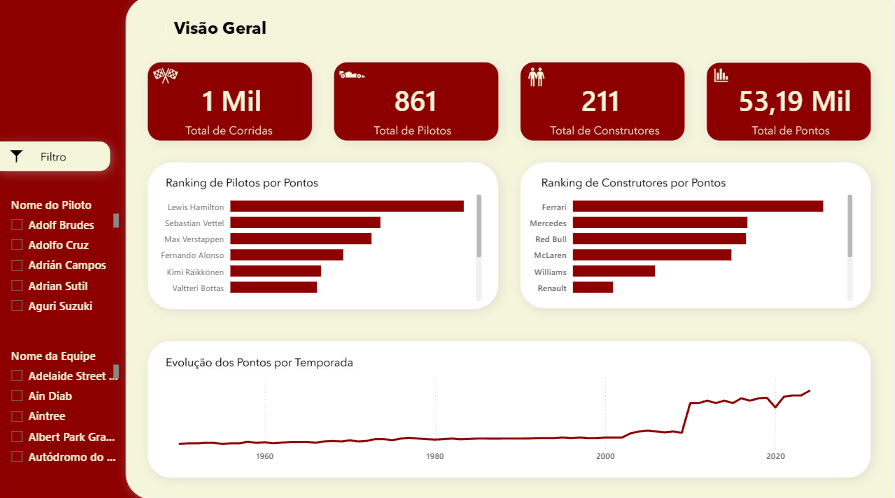

This screenshot's page, from the dashboard's own definition file:
{"tool":"powerbi","page":{"name":"Visão Geral","canvas":[1280,720],"ordinal":0},"visuals":[{"type":"barChart","fields":{"Category":["DimDriver.Nome Piloto"],"Y":["FactResults.Total Pontos"]},"box":[198.9,266.5,495.9,170.8],"z":0},{"type":"barChart","fields":{"Category":["DimConstructor.name"],"Y":["FactResults.Total Pontos"]},"box":[743.3,266.5,481.9,170.8],"z":1000},{"type":"lineChart","fields":{"Category":["DimRace.year"],"Y":["FactResults.Total Pontos"]},"box":[239.7,529.1,1009.7,144.1],"z":2000},{"type":"cardVisual","fields":{"Data":["FactResults.Total Corridas"]},"box":[256.3,105.8,154.3,75.2],"z":3000},{"type":"cardVisual","fields":{"Data":["FactResults.Total Pilotos"]},"box":[530.4,105.8,130,75.2],"z":4000},{"type":"cardVisual","fields":{"Data":["FactResults.Total Construtores"]},"box":[796.8,94.3,124.9,98.2],"z":5000},{"type":"cardVisual","fields":{"Data":["FactResults.Total Pontos"]},"box":[1023.7,94.3,225.7,98.2],"z":6000},{"type":"slicer","fields":{"Values":["DimDriver.Nome Piloto"]},"box":[3.8,280.5,172.1,179.8],"z":7000},{"type":"slicer","fields":{"Values":["DimCircuit.name"]},"box":[3.8,495.9,172.1,177.2],"z":8000}]}

Visuals, with their boxes in screenshot pixels (x1, y1, x2, y2), scaled from the page's 1280x720 canvas onto the 895x498 screenshot:
barChart - DimDriver.Nome Piloto x FactResults.Total Pontos: (x1=139, y1=184, x2=486, y2=302)
barChart - DimConstructor.name x FactResults.Total Pontos: (x1=520, y1=184, x2=857, y2=302)
lineChart - DimRace.year x FactResults.Total Pontos: (x1=168, y1=366, x2=874, y2=466)
cardVisual - FactResults.Total Corridas: (x1=179, y1=73, x2=287, y2=125)
cardVisual - FactResults.Total Pilotos: (x1=371, y1=73, x2=462, y2=125)
cardVisual - FactResults.Total Construtores: (x1=557, y1=65, x2=644, y2=133)
cardVisual - FactResults.Total Pontos: (x1=716, y1=65, x2=874, y2=133)
slicer - DimDriver.Nome Piloto: (x1=3, y1=194, x2=123, y2=318)
slicer - DimCircuit.name: (x1=3, y1=343, x2=123, y2=466)
